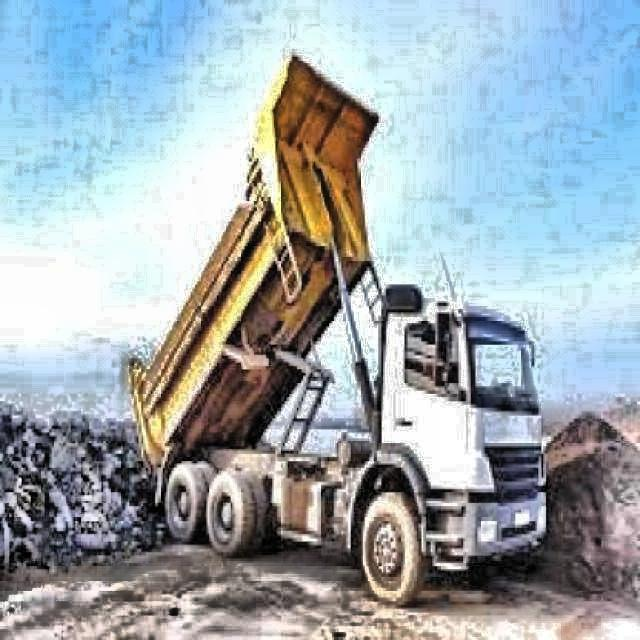dump_truck: (123, 48, 557, 608)
